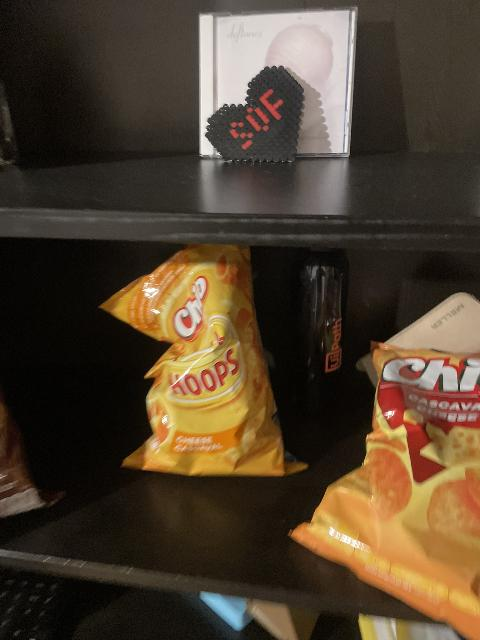Chio Cascaval 125g: (299, 319, 480, 640)
Chio Hula Hoops Cheese 70g: (101, 241, 310, 474)
Lays Beef Grilled Ribs 125g: (1, 374, 66, 521)
